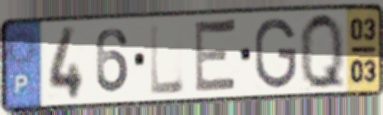4: (45, 24, 86, 103)
6: (94, 27, 132, 96)
E: (193, 17, 240, 96)
G: (252, 16, 299, 92)
L: (148, 21, 187, 98)
Q: (297, 9, 349, 92)
